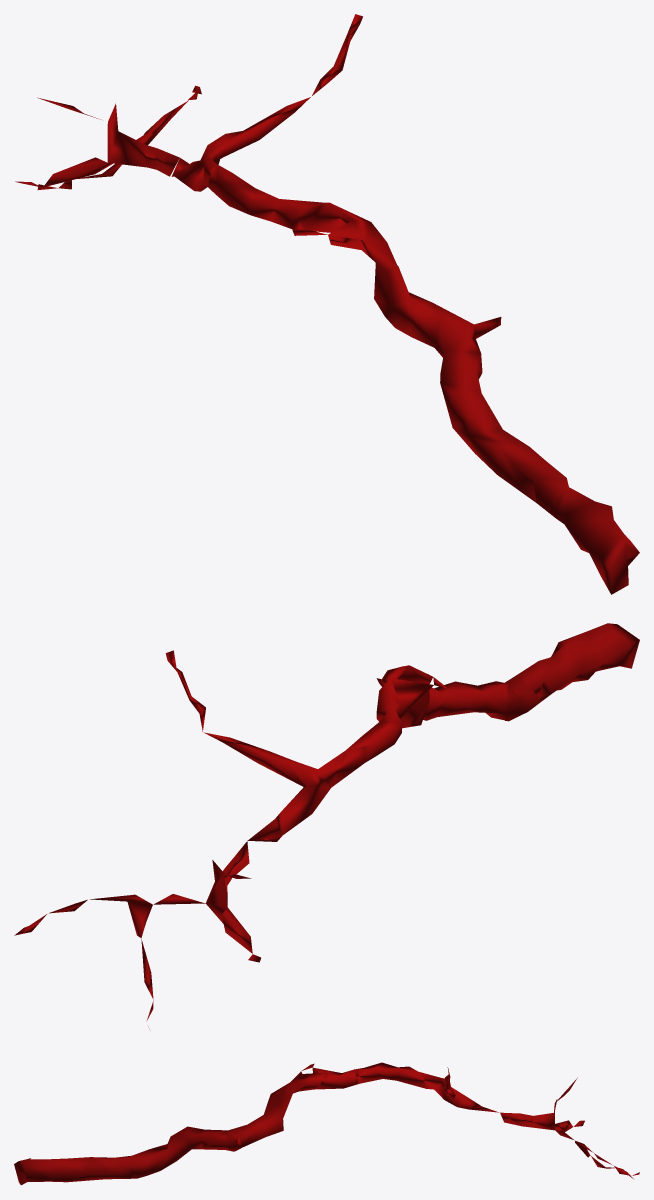
The model's file is branches_a.glb.
3 renders of one model, top to bottom at view 1: azimuth 30°, elevation 25°; view 2: azimuth 150°, elevation 25°; view 3: azimuth 270°, elevation 25°, orthographic. The views are drawn at different scales.
Visible parts, largest first — view 1: LOD0; view 2: LOD0; view 3: LOD0.
Boxes of the visible parts, box(x1,y1,x2,y2) form: LOD0: box(15, 14, 639, 594); LOD0: box(14, 623, 639, 1030); LOD0: box(14, 1062, 639, 1185).
Bounding box in the file's own units: 0.3027 × 0.3401 × 1.28.
